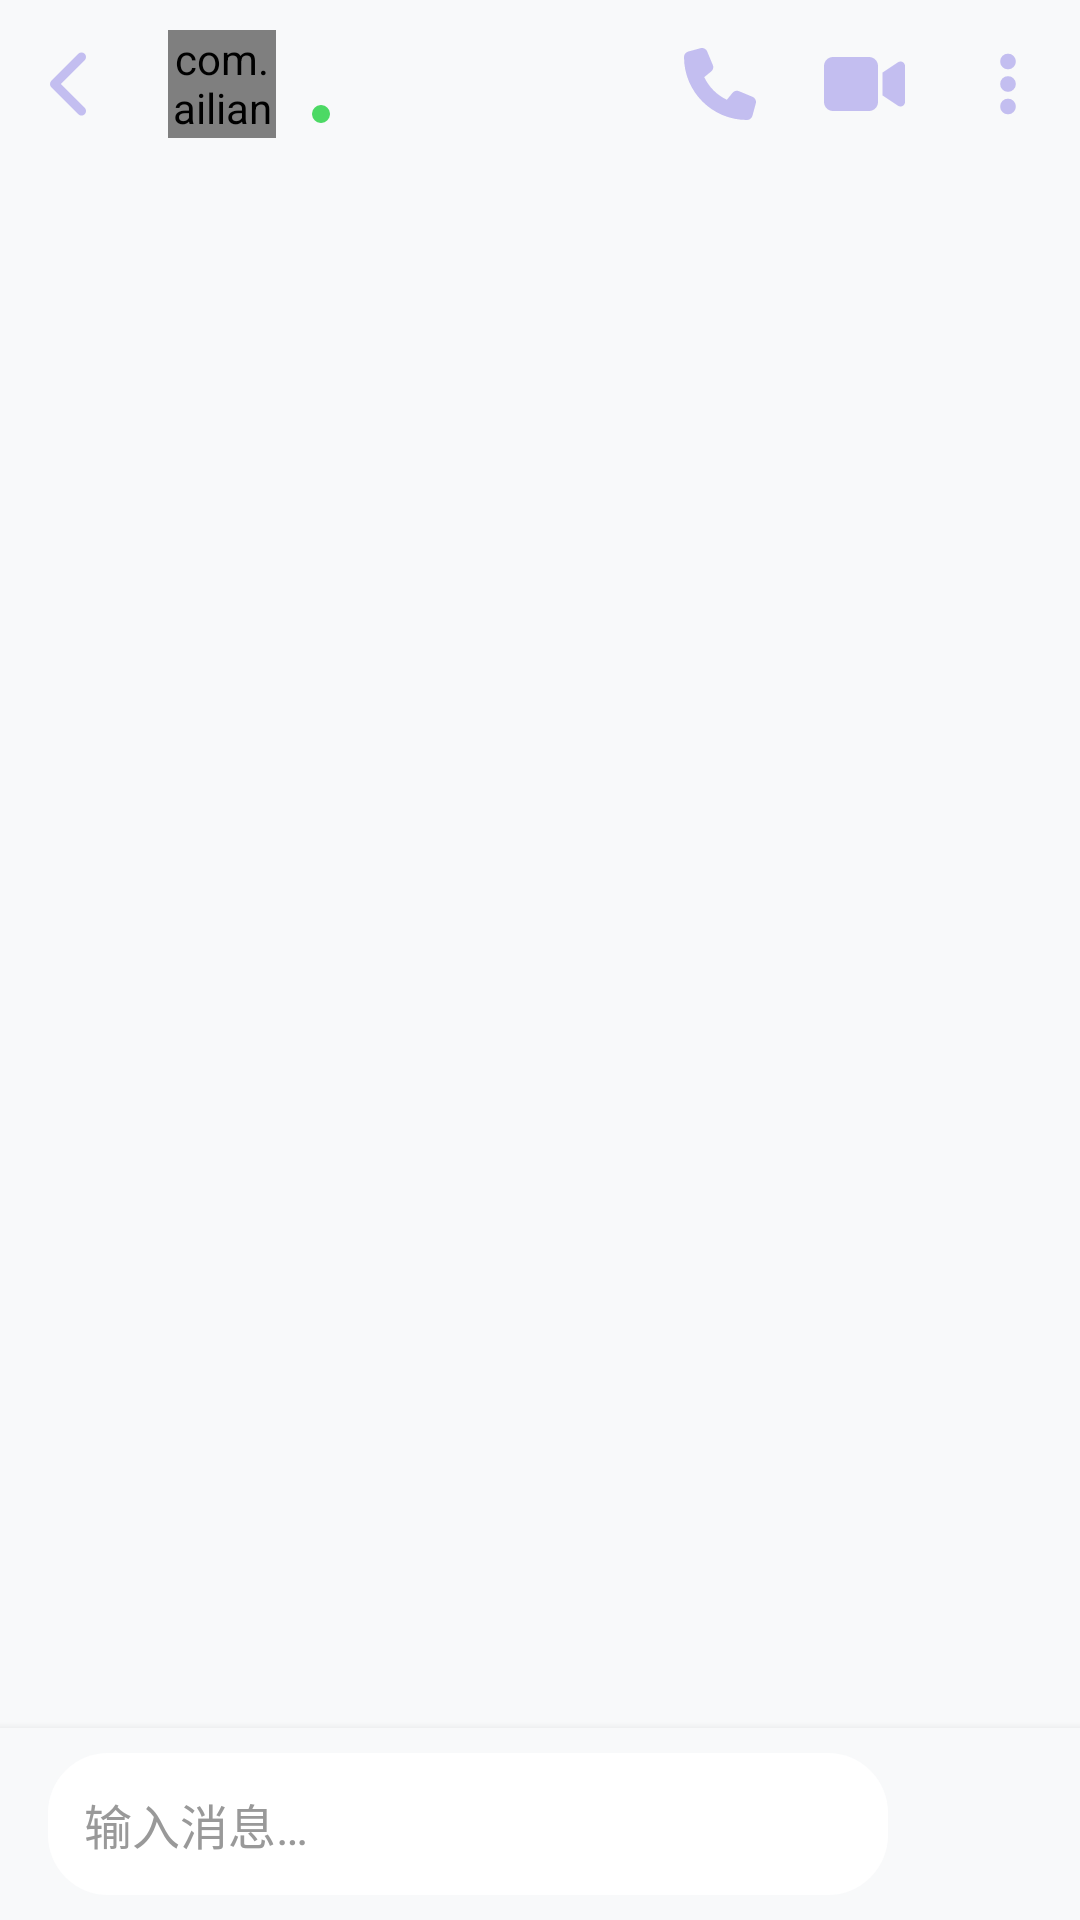

Named icons in this screenshot (1080×1920) and their centers, point (x, y):
更多: point (1008, 84)
视频通话: point (864, 84)
语音通话: point (720, 84)
返回: point (68, 84)
